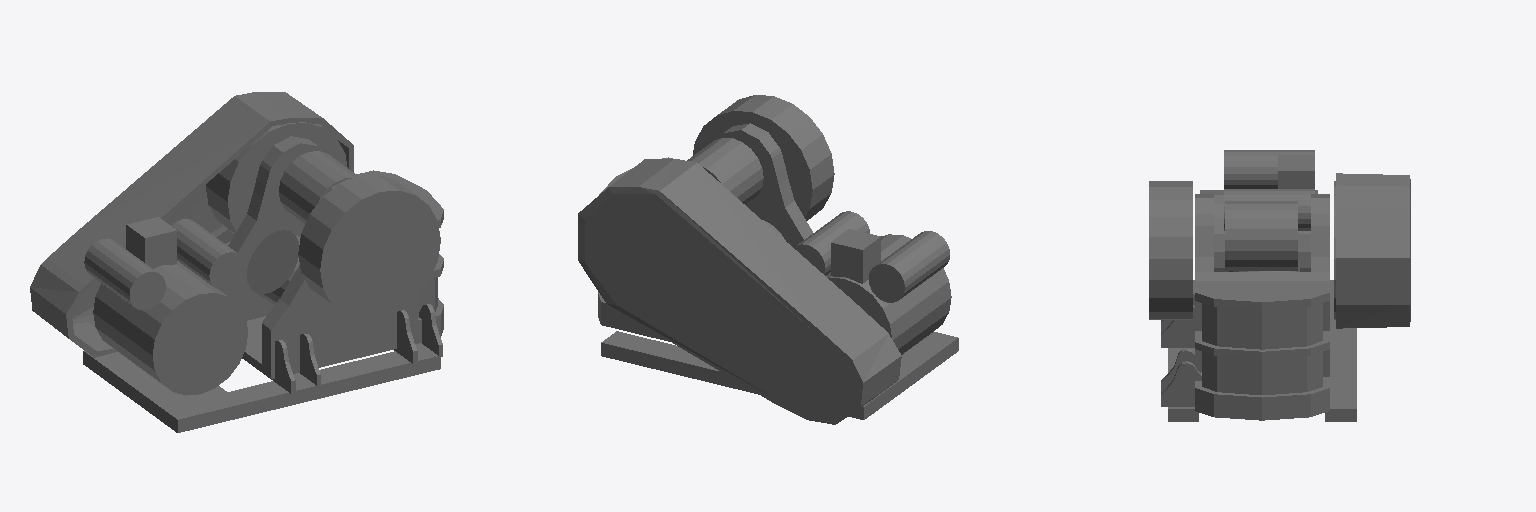
Rendered from LowPoly.obj.
The picture shows the model from 3 angles: view 1: azimuth 30°, elevation 25°; view 2: azimuth 150°, elevation 25°; view 3: azimuth 270°, elevation 25°; orthographic projection.
Visible parts, largest first — view 1: LowPoly1; view 2: LowPoly1; view 3: LowPoly1.
Part boxes in pixels (bbox=[...]): LowPoly1: bbox=[30, 92, 443, 432]; LowPoly1: bbox=[578, 95, 958, 424]; LowPoly1: bbox=[1149, 150, 1410, 421].
Size of the model in its own units: 5.76 by 3.52 by 4.03.